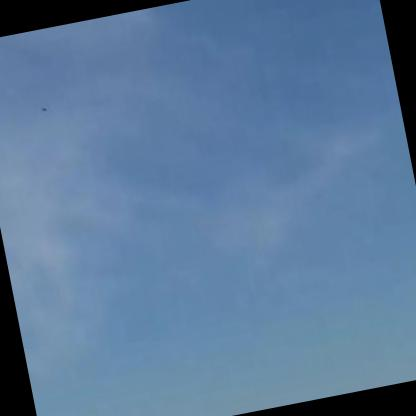plane: (36, 103, 50, 119)
